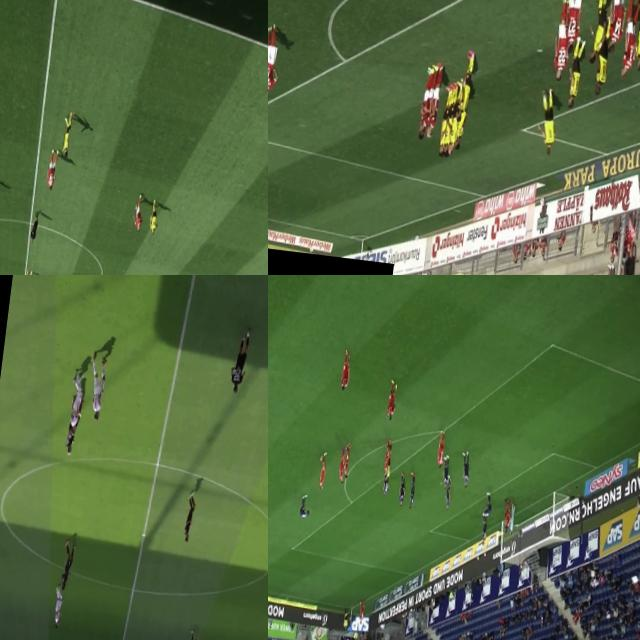ball: (357, 600, 362, 606)
player: (615, 0, 640, 83), (592, 20, 614, 104), (84, 352, 110, 422), (551, 10, 576, 80), (228, 327, 252, 396), (584, 0, 607, 67), (564, 36, 584, 113), (65, 368, 87, 435), (535, 94, 558, 156), (562, 0, 585, 57), (605, 0, 630, 51), (442, 92, 459, 162), (419, 71, 434, 145), (425, 72, 441, 140), (58, 110, 78, 164), (447, 91, 462, 161), (64, 394, 80, 457), (458, 53, 473, 119), (59, 538, 77, 593), (181, 488, 198, 544), (454, 94, 470, 150), (630, 1, 640, 77), (384, 375, 399, 425), (49, 584, 66, 628), (435, 98, 448, 154), (146, 199, 163, 239), (338, 349, 352, 396), (403, 469, 418, 512), (42, 150, 58, 190), (268, 29, 277, 100), (457, 448, 471, 492), (316, 452, 329, 492), (342, 443, 354, 482), (132, 196, 144, 233), (298, 492, 312, 522), (336, 450, 347, 487), (439, 454, 451, 486), (442, 474, 452, 512), (436, 430, 446, 466), (381, 439, 391, 474), (481, 495, 494, 520), (396, 475, 406, 507), (479, 516, 489, 547), (503, 498, 513, 528), (380, 467, 390, 496), (356, 598, 366, 626), (508, 504, 516, 534), (182, 627, 199, 640), (504, 504, 511, 530), (20, 268, 32, 275)
